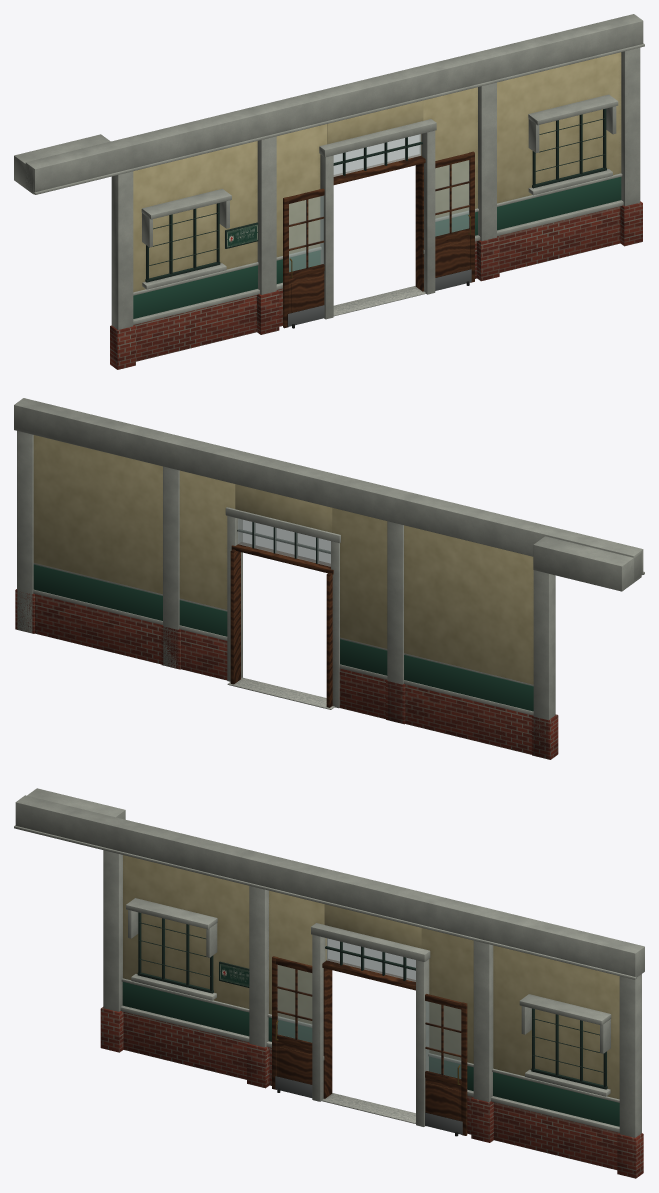
The model's file is CTCC_LOC01_KAGroundFacade.fbx.
The picture shows the model from 3 angles, top to bottom: view 1: azimuth 30°, elevation 25°; view 2: azimuth 150°, elevation 25°; view 3: azimuth 330°, elevation 25°; orthographic projection.
Parts seen in each view (by area): view 1: CTCC_LOC01_KAGroundFacade_LOD0; view 2: CTCC_LOC01_KAGroundFacade_LOD0; view 3: CTCC_LOC01_KAGroundFacade_LOD0.
Boxes of the visible parts, x1,y1,x2,y2 form: CTCC_LOC01_KAGroundFacade_LOD0: (14,14,644,369); CTCC_LOC01_KAGroundFacade_LOD0: (14,398,644,759); CTCC_LOC01_KAGroundFacade_LOD0: (14,788,644,1178).
Size of what is drawn, in the model's own units: 11.74 by 4.08 by 0.835.
